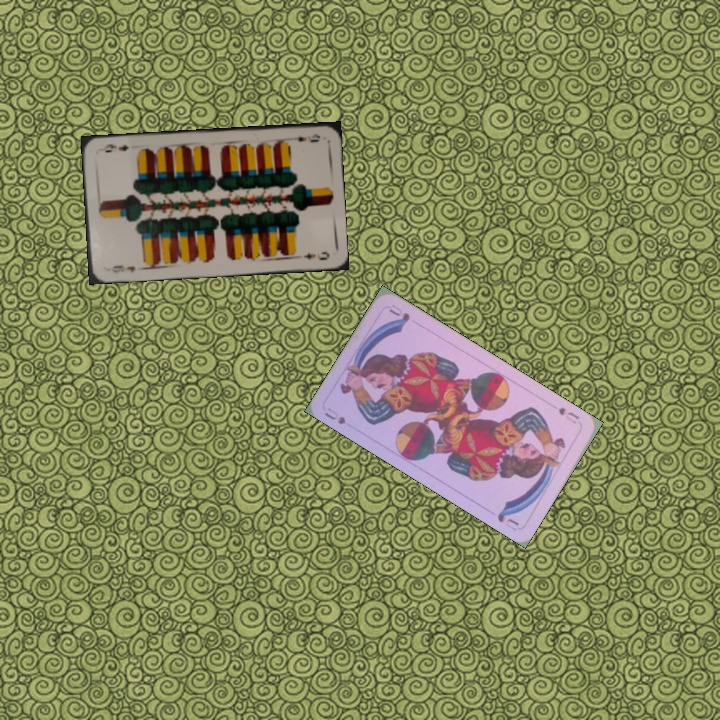E9: (284, 130, 322, 145), (106, 261, 138, 275)
SU: (554, 403, 582, 427), (320, 404, 348, 427)
